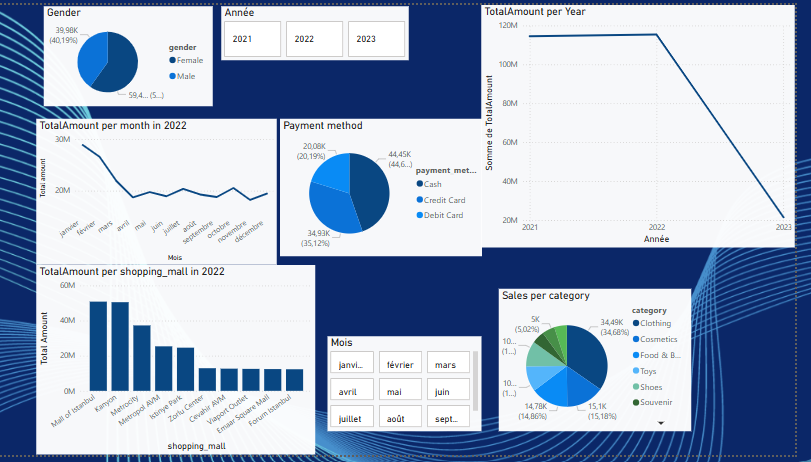

Layout of this report page (visuals, bound fields, positions):
{"tool":"powerbi","page":{"name":"Page 1","canvas":[1280,720],"ordinal":0},"visuals":[{"type":"pieChart","title":"Gender","fields":{"Category":["Top_Customers3.gender"],"Y":["CountNonNull(Top_Customers3.gender)"]},"box":[78.3,1.7,270,160],"z":0},{"type":"pieChart","title":"Payment method","fields":{"Y":["CountNonNull(Top_Customers3.payment_method)"],"Category":["Top_Customers3.payment_method"]},"box":[455,181.7,323.3,220],"z":1},{"type":"lineChart","title":"TotalAmount per Year","fields":{"Category":["Top_Customers3.TransactionDate.Variation.Hiérarchie de dates.Année","Top_Customers3.TransactionDate.Variation.Hiérarchie de dates.Trimestre","Top_Customers3.TransactionDate.Variation.Hiérarchie de dates.Mois","Top_Customers3.TransactionDate.Variation.Hiérarchie de dates.Jour"],"Y":["Sum(Top_Customers3.TotalAmount)"]},"box":[778.3,0,501.7,388.3],"z":2},{"type":"columnChart","title":"TotalAmount per shopping_mall in 2022","fields":{"Category":["Top_Customers3.shopping_mall"],"Y":["Sum(Top_Customers3.TotalAmount)"]},"box":[65,416.7,446.7,303.3],"z":3},{"type":"pieChart","title":"Sales per category","fields":{"Category":["Top_Customers3.category"],"Y":["CountNonNull(Top_Customers3.category)"]},"box":[806.7,453.3,308.3,228.3],"z":4},{"type":"advancedSlicerVisual","fields":{"Values":["Top_Customers3.TransactionDate.Variation.Hiérarchie de dates.Mois"]},"box":[531.7,530,246.7,151.7],"z":5},{"type":"advancedSlicerVisual","fields":{"Values":["Top_Customers3.TransactionDate.Variation.Hiérarchie de dates.Année"]},"box":[361.7,1.7,300,86.7],"z":6},{"type":"lineChart","title":"TotalAmount per month in 2022","fields":{"Category":["Top_Customers3.TransactionDate.Variation.Hiérarchie de dates.Mois"],"Y":["Sum(Top_Customers3.TotalAmount)"]},"box":[65,181.7,385,233.3],"z":7}]}

Visuals, with their boxes in screenshot pixels (x1, y1, x2, y2), scaled from the page's 1280x720 canvas onto the 811x462 screenshot:
"Gender" pieChart: BBox(50, 1, 221, 104)
"Payment method" pieChart: BBox(288, 117, 493, 258)
"TotalAmount per Year" lineChart: BBox(493, 0, 810, 249)
"TotalAmount per shopping_mall in 2022" columnChart: BBox(41, 267, 324, 461)
"Sales per category" pieChart: BBox(511, 291, 706, 437)
advancedSlicerVisual - Top_Customers3.TransactionDate.Variation.Hiérarchie de dates.Mois: BBox(337, 340, 493, 437)
advancedSlicerVisual - Top_Customers3.TransactionDate.Variation.Hiérarchie de dates.Année: BBox(229, 1, 419, 57)
"TotalAmount per month in 2022" lineChart: BBox(41, 117, 285, 266)
